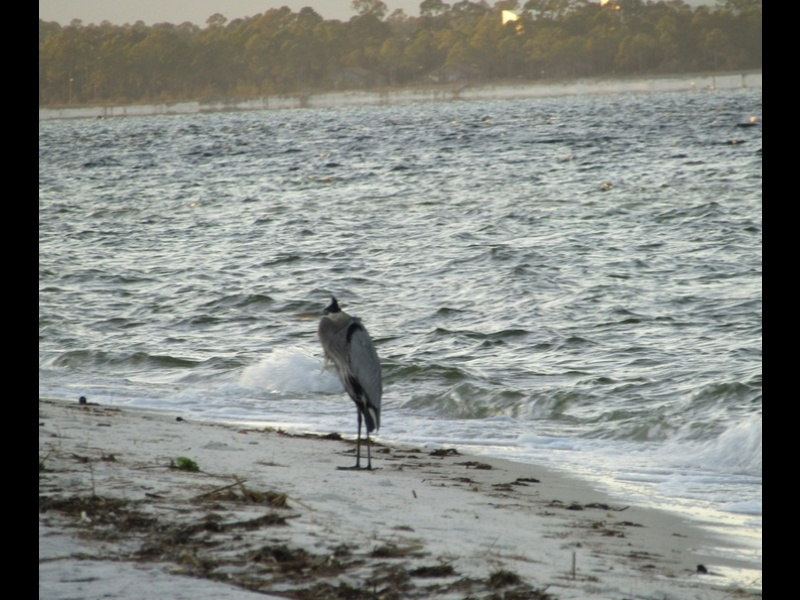heron: (288, 296, 383, 473)
